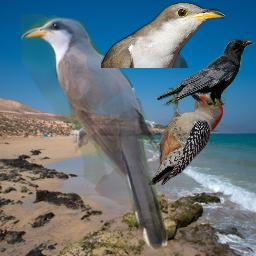Crow: (156, 39, 255, 108)
Cuckoo: (21, 14, 173, 254), (101, 2, 225, 68)
Woodpecker: (148, 87, 224, 185)
